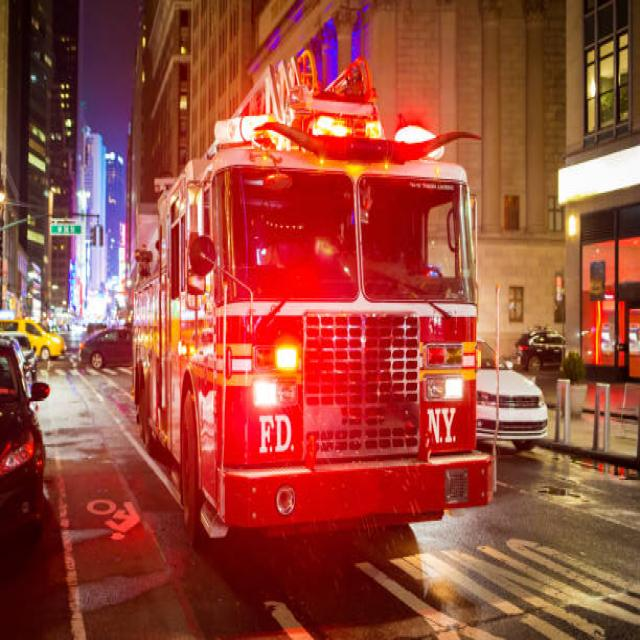emergency: (134, 58, 490, 542)
